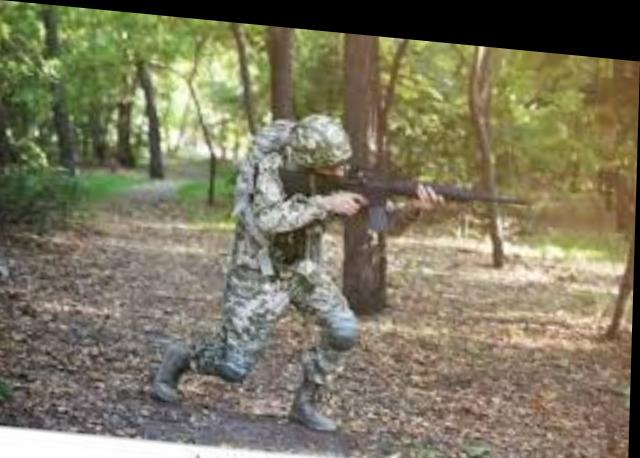other: (224, 107, 364, 418)
